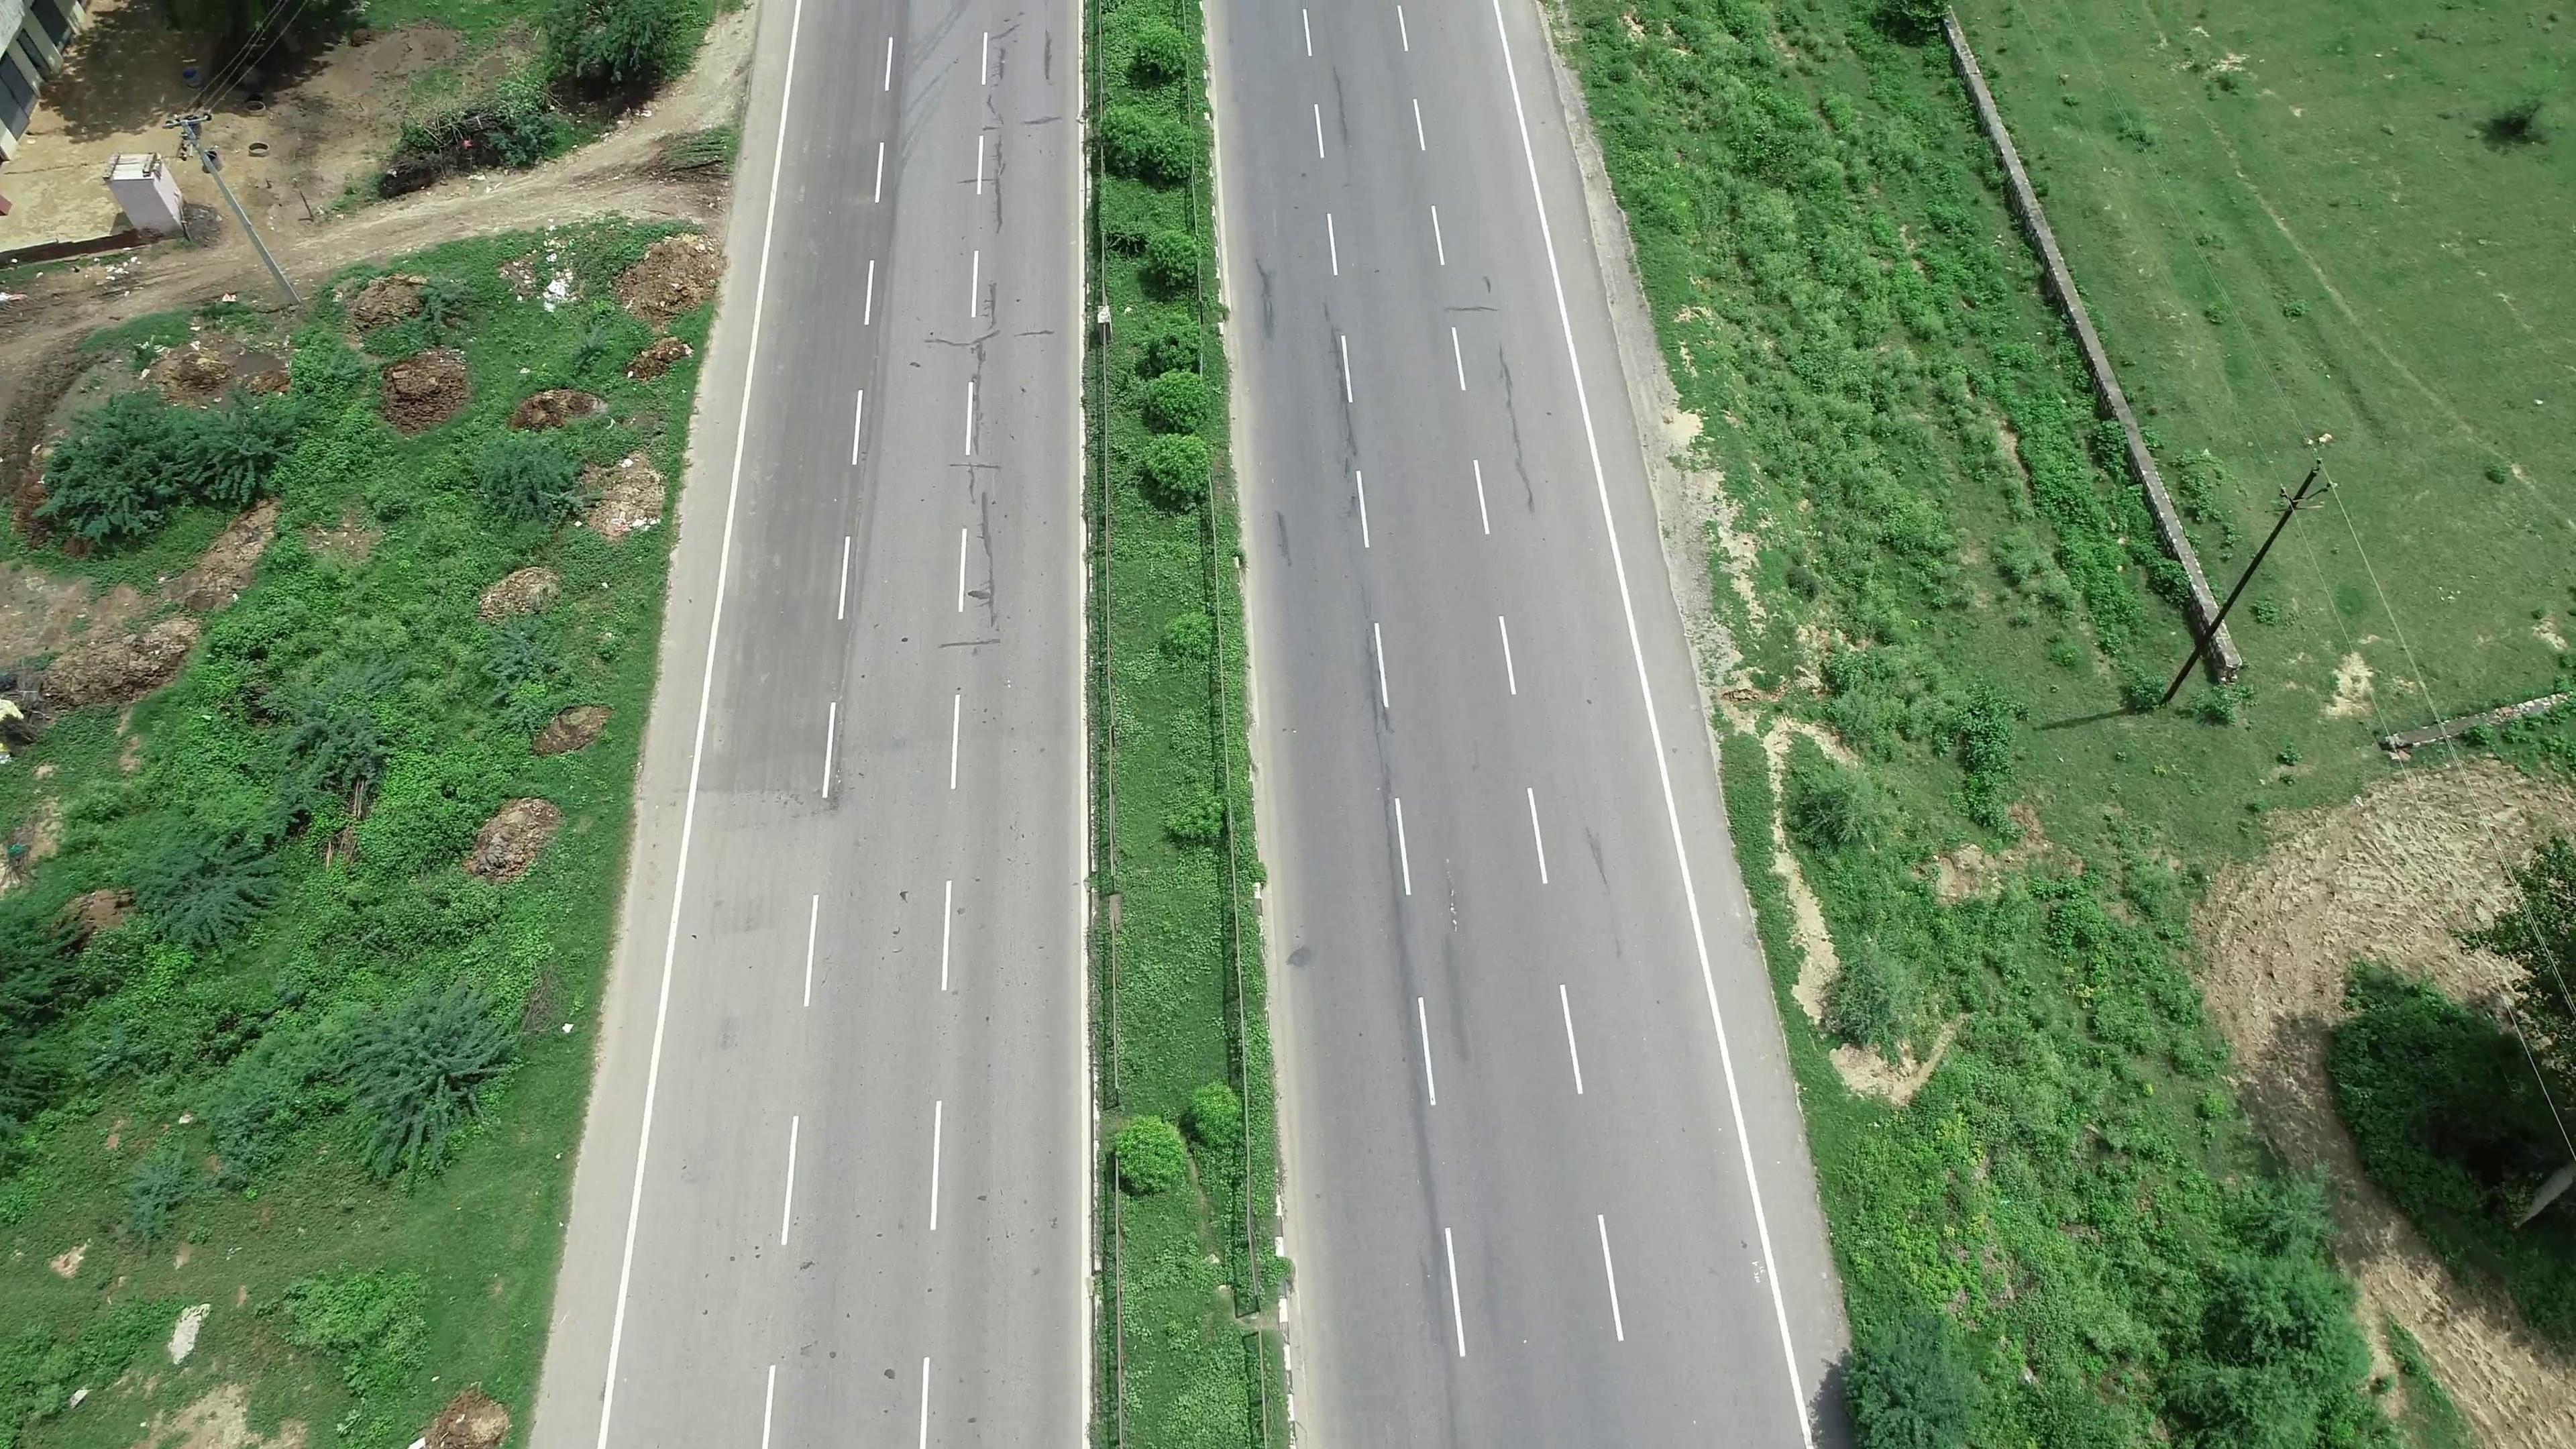Longitudinal_cracks: (950, 42, 1035, 617), (1476, 283, 1546, 517)
